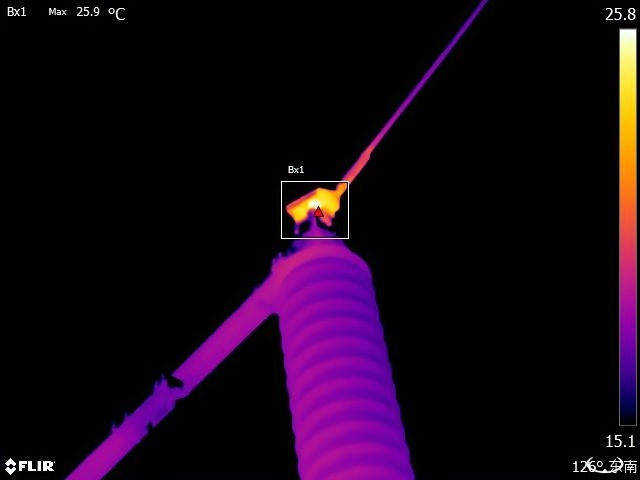post insulator: (273, 253, 428, 480)
switch: (53, 173, 355, 480)
